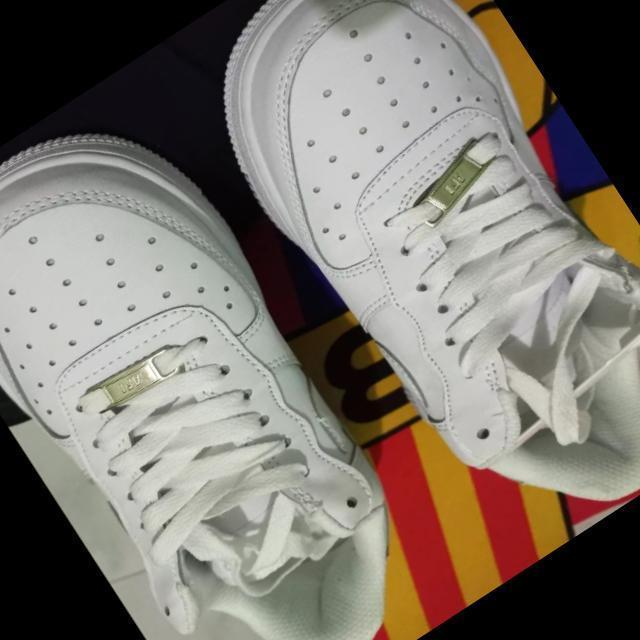nike fake air force: (165, 0, 640, 581), (0, 70, 470, 640)
